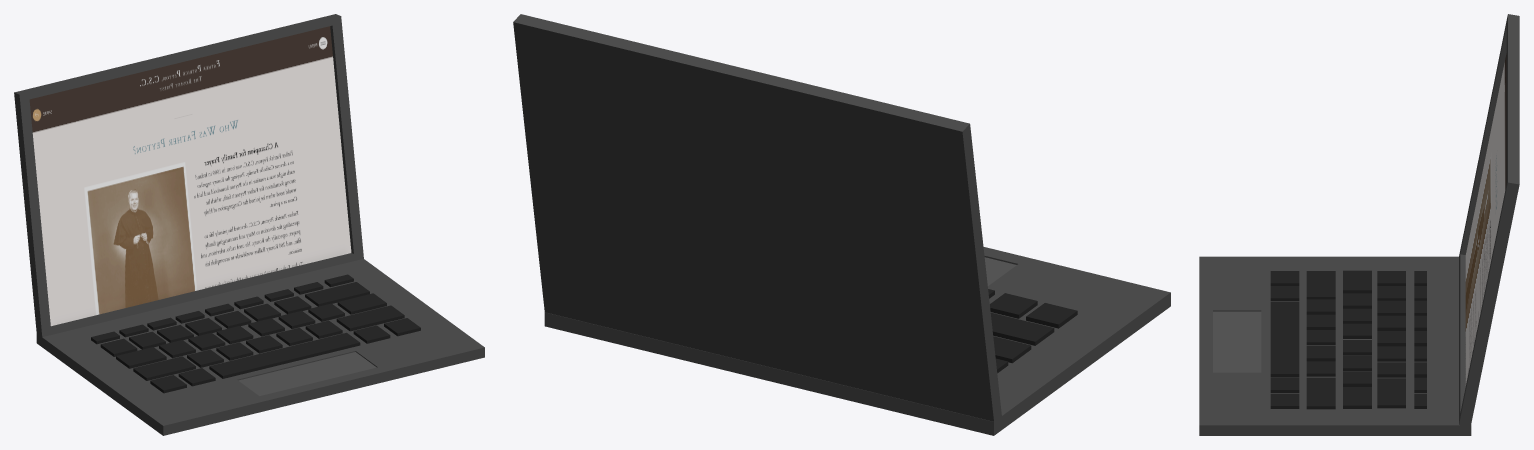
The model's file is fp-macbook.glb.
3 views of the same model, side by side, from view 1: azimuth 30°, elevation 25°; view 2: azimuth 150°, elevation 25°; view 3: azimuth 270°, elevation 25° (orthographic). The views are drawn at different scales.
Visible parts, largest first — view 1: Cube.001, Cube, Cube.042, Cube.037, Cube.019, Cube.029, Cube.020, Cube.028; view 2: Cube.001, Cube, Cube.029, Cube.038, Cube.039, Cube.020; view 3: Cube, Cube.001, Cube.042, Cube.037, Cube.019, Cube.029, Cube.020, Cube.028, Cube.032, Cube.036, Cube.033, Cube.034 (+18 smaller).
Boxes of the visible parts, x1,y1,x2,y2 form: Cube.001: (14,14,363,337); Cube: (36,259,484,435); Cube.042: (209,332,360,378); Cube.037: (336,305,404,331); Cube.019: (305,282,369,306); Cube.029: (133,356,195,380); Cube.020: (116,347,166,368); Cube.028: (337,293,386,314); Cube.001: (513,14,1001,423); Cube: (544,247,1170,435); Cube.029: (990,312,1054,345); Cube.038: (1026,303,1077,328); Cube.039: (990,293,1037,318); Cube.020: (993,336,1031,363); Cube: (1199,256,1471,435); Cube.001: (1459,14,1519,426); Cube.042: (1270,302,1299,377); Cube.037: (1306,377,1335,409); Cube.019: (1377,378,1405,408); Cube.029: (1306,271,1335,299); Cube.020: (1343,270,1371,293); Cube.028: (1343,387,1371,408); Cube.032: (1306,299,1335,314); Cube.036: (1306,361,1335,376); Cube.033: (1306,314,1335,329); Cube.034: (1306,330,1335,345).
Size of the model in its own units: 5.33 by 3.74 by 4.28.
4 materials, 1 textured.
